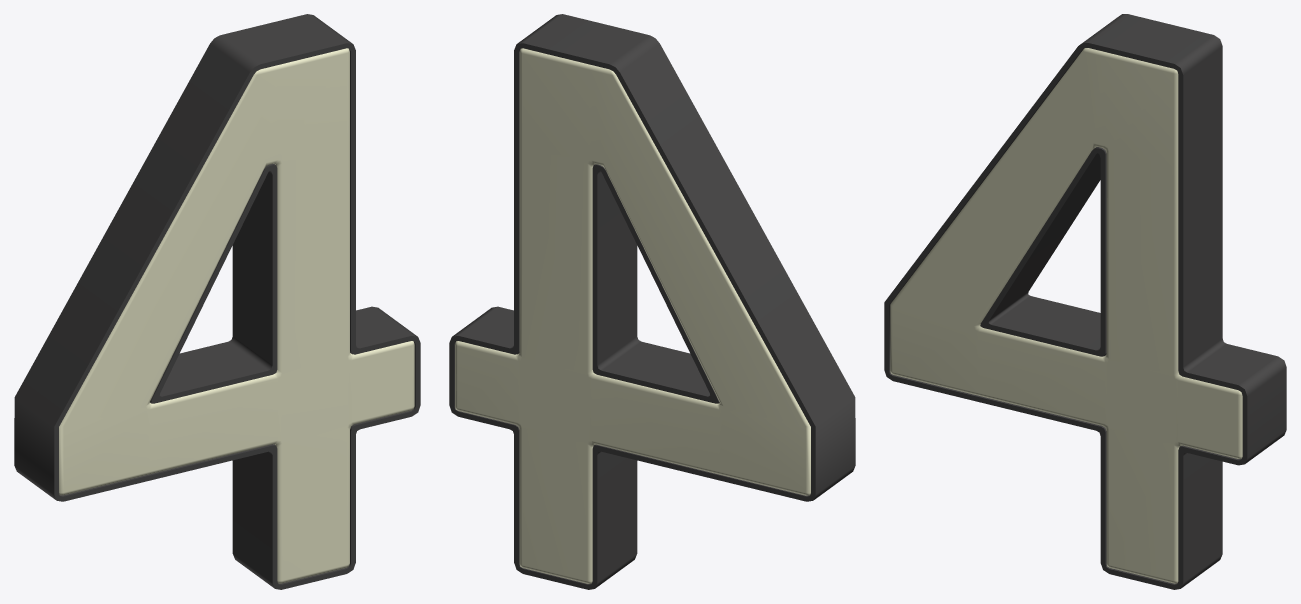
File: Simple four.glb
3 views of the same model, side by side, from view 1: azimuth 30°, elevation 25°; view 2: azimuth 150°, elevation 25°; view 3: azimuth 330°, elevation 25° (orthographic).
Visible parts, largest first — view 1: letters_simple_four_fill_ar, letters_simple_four_border_ar; view 2: letters_simple_four_fill_ar, letters_simple_four_border_ar; view 3: letters_simple_four_fill_ar, letters_simple_four_border_ar.
Boxes of the visible parts, x1,y1,x2,y2 form: letters_simple_four_fill_ar: (59,48,414,583); letters_simple_four_border_ar: (14,14,420,589); letters_simple_four_fill_ar: (455,48,810,583); letters_simple_four_border_ar: (449,14,855,589); letters_simple_four_fill_ar: (890,48,1242,583); letters_simple_four_border_ar: (884,14,1286,589).
Size of the model in its own units: 0.1956 by 0.2707 by 0.0382.
